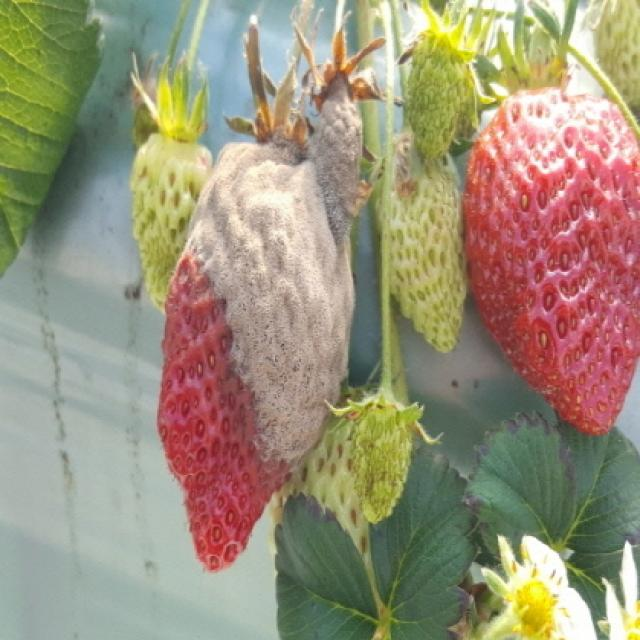Gray Mold: (165, 14, 357, 495), (279, 18, 401, 240)
